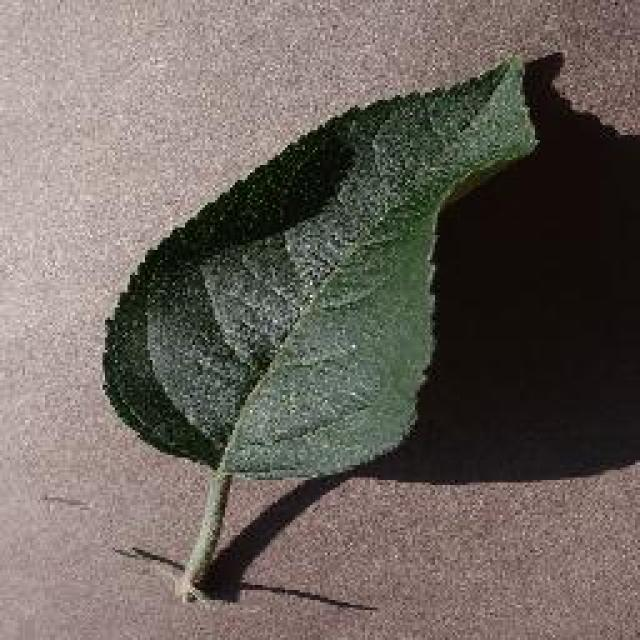apple healthy: (98, 50, 540, 600)
